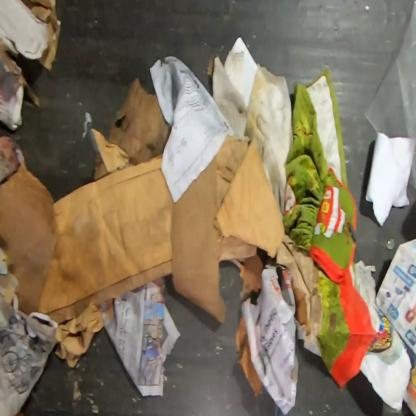cardboard: (0, 151, 174, 325), (240, 263, 323, 415), (212, 134, 286, 262), (0, 0, 63, 134), (108, 75, 172, 165), (235, 312, 264, 398), (238, 252, 266, 300), (92, 152, 108, 181)
soft_plastic: (362, 0, 415, 193)
